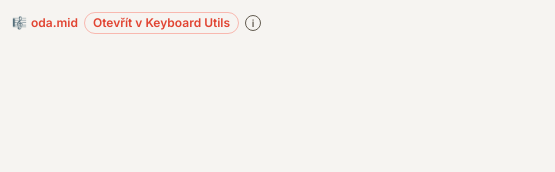
Test: AttachmentLink › tells the teacher less - they attached it
Step 1. Click the button named "Co s tímhle souborem" → (253, 23), box [245,15,261,31]
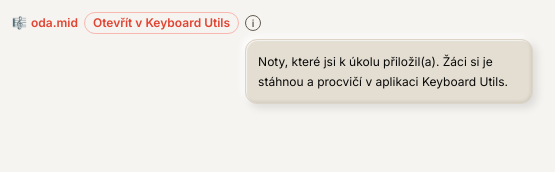
Check: the text "jsi k úkolu přiložil" is shown, box [258,54,508,88]
